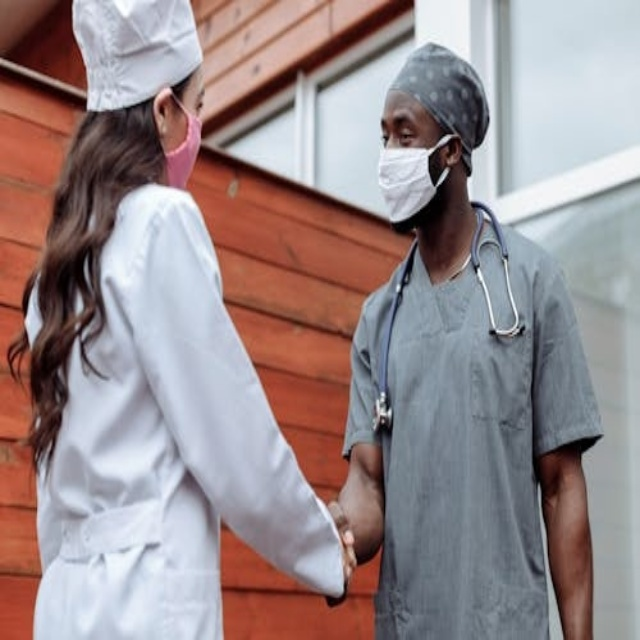Mascara: (378, 132, 458, 226), (161, 95, 202, 191)
Sin_gafas: (399, 129, 415, 141), (380, 133, 390, 147), (196, 99, 204, 113)
Sin_guantes: (324, 503, 355, 602)
